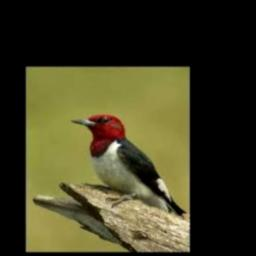Woodpecker: (70, 114, 186, 217)
